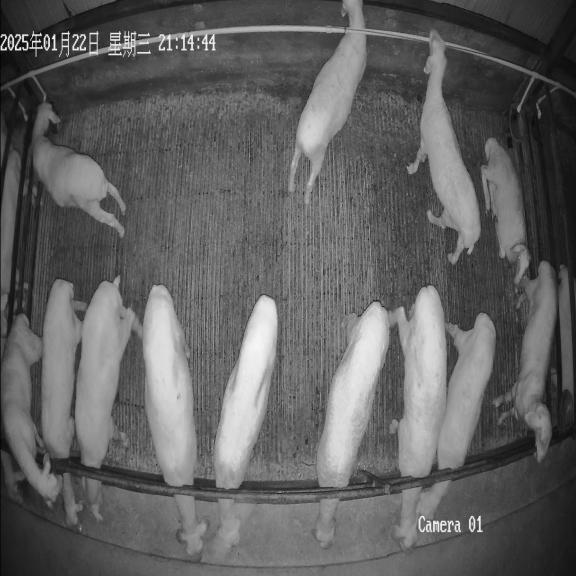drinking: (32, 101, 126, 237)
eating: (314, 301, 389, 548), (142, 284, 208, 556), (213, 295, 277, 556), (75, 276, 142, 521), (416, 313, 496, 518), (388, 286, 447, 549), (41, 279, 87, 531)
lying: (481, 137, 530, 285)
stand: (406, 30, 481, 264), (288, 0, 366, 205), (493, 261, 558, 462), (2, 314, 62, 507)
